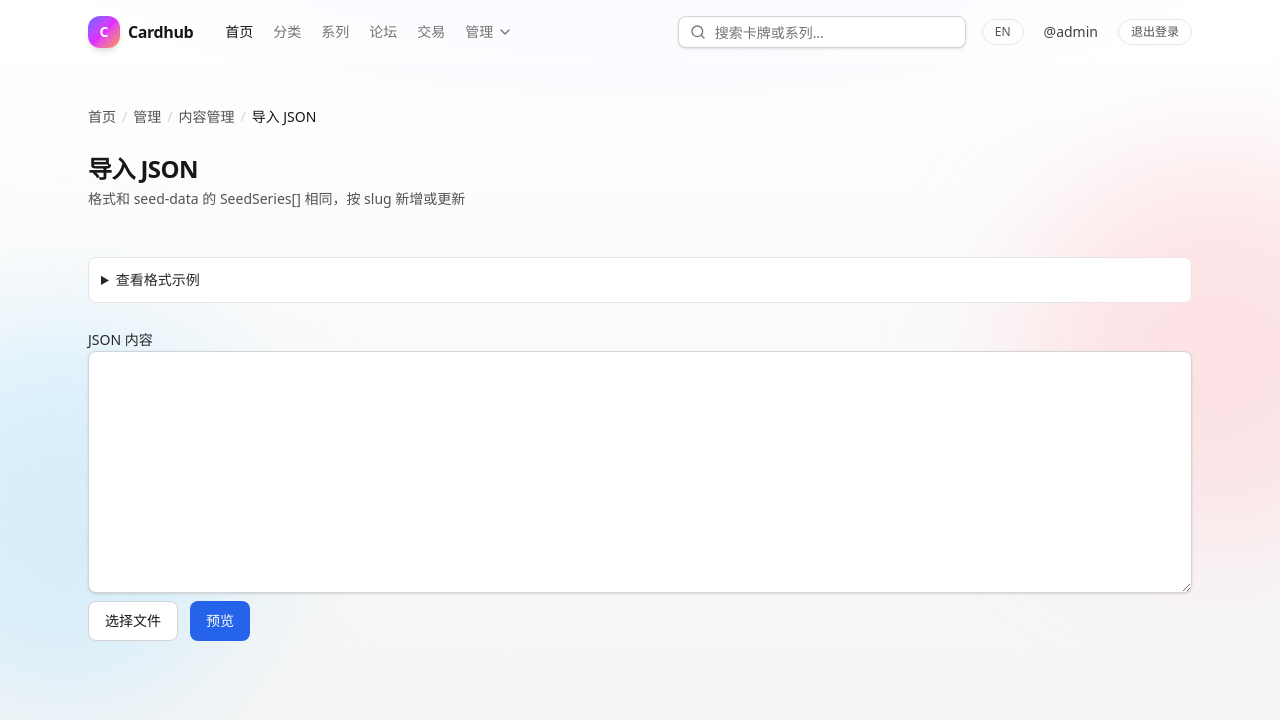
Test: catalog import › shows mapped Chinese copy when the import procedure returns a zod error
Click the text box labelled "JSON 内容" at x=640, y=472, box x1=88 y1=351 x2=1192 y2=593
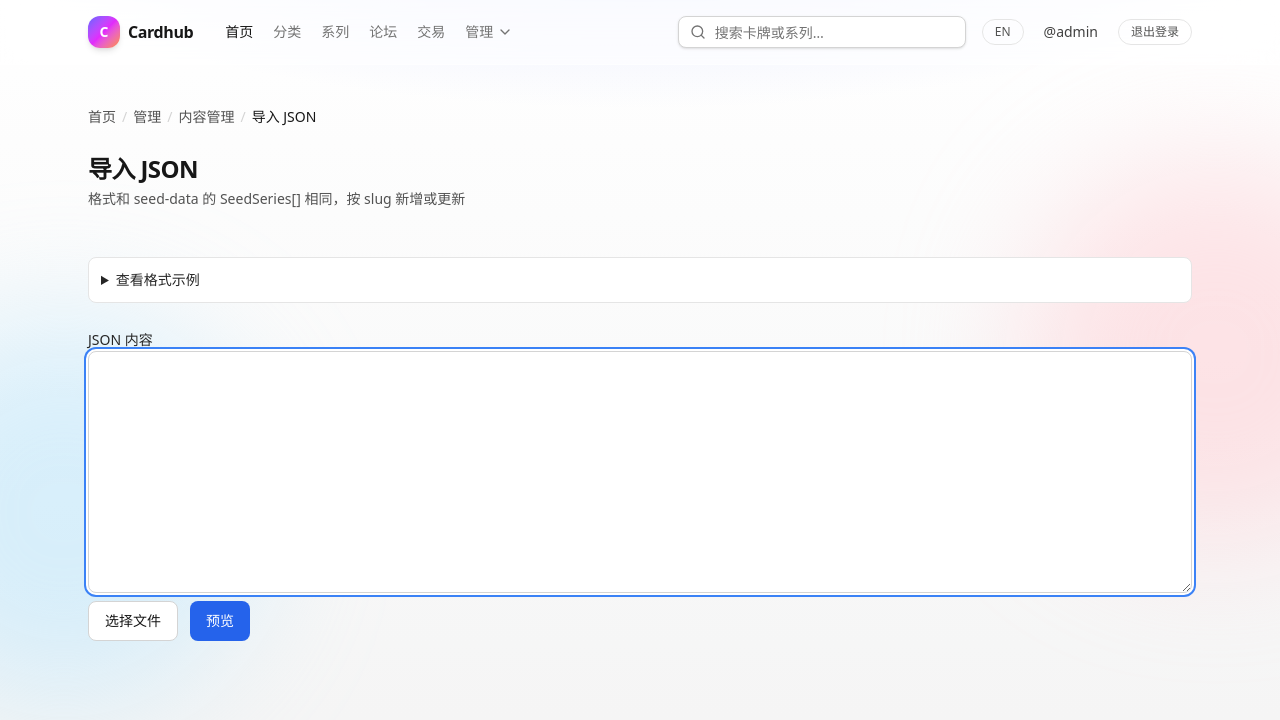
Type keys "[]"
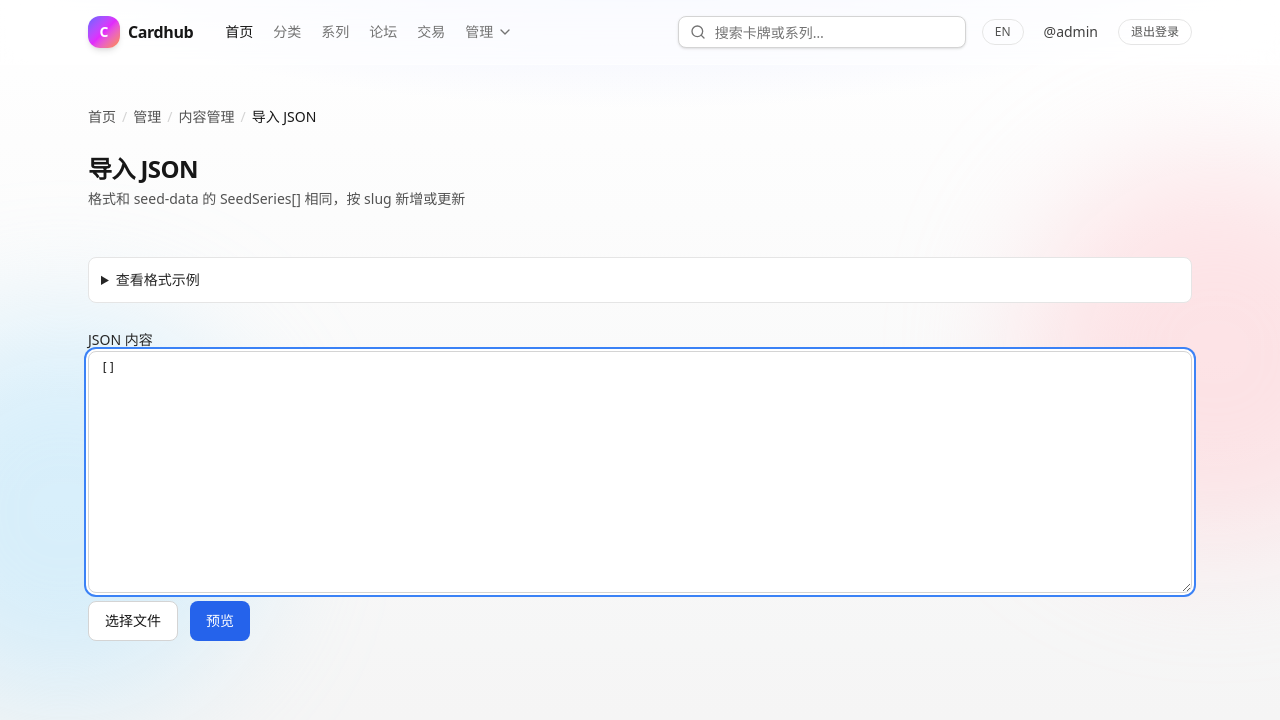
Click the button "预览" at x=220, y=621, box x1=190 y1=601 x2=250 y2=641
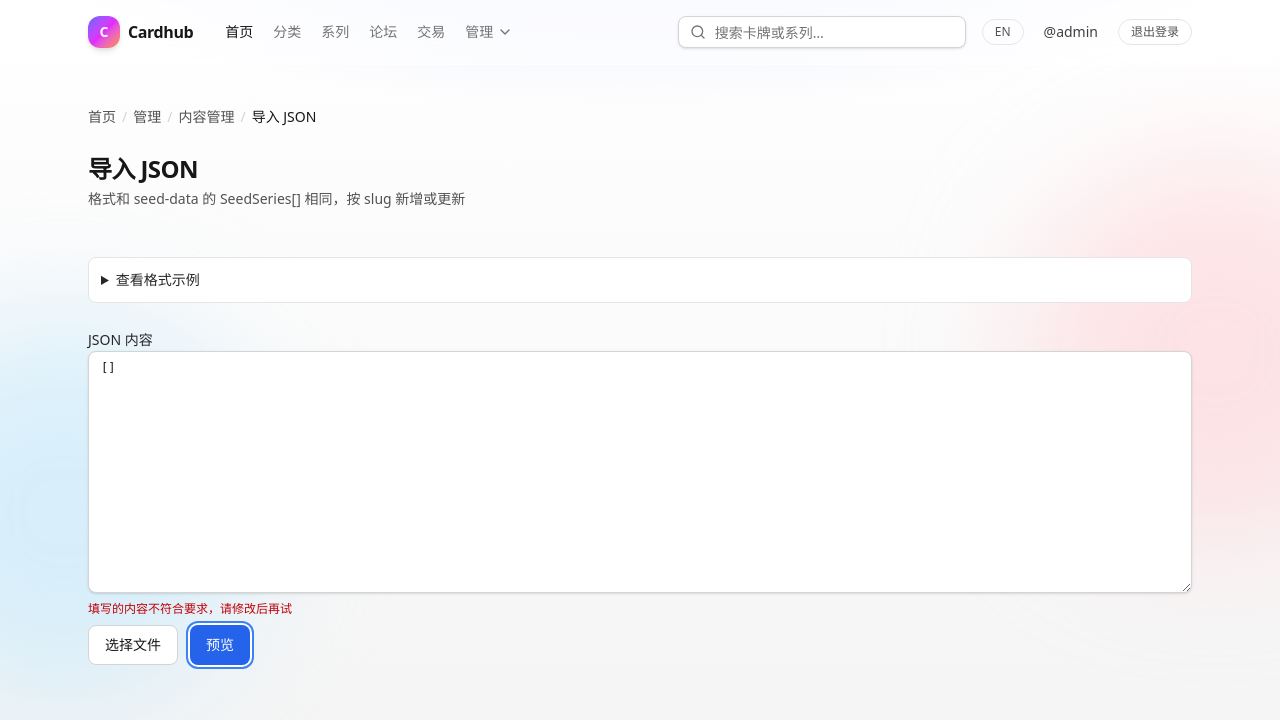
Expected: the message does not show "invalid_type", x1=88 y1=600 x2=292 y2=617
Expected: the message reads "填写的内容不符合要求，请修改后再试", x1=88 y1=600 x2=292 y2=617
